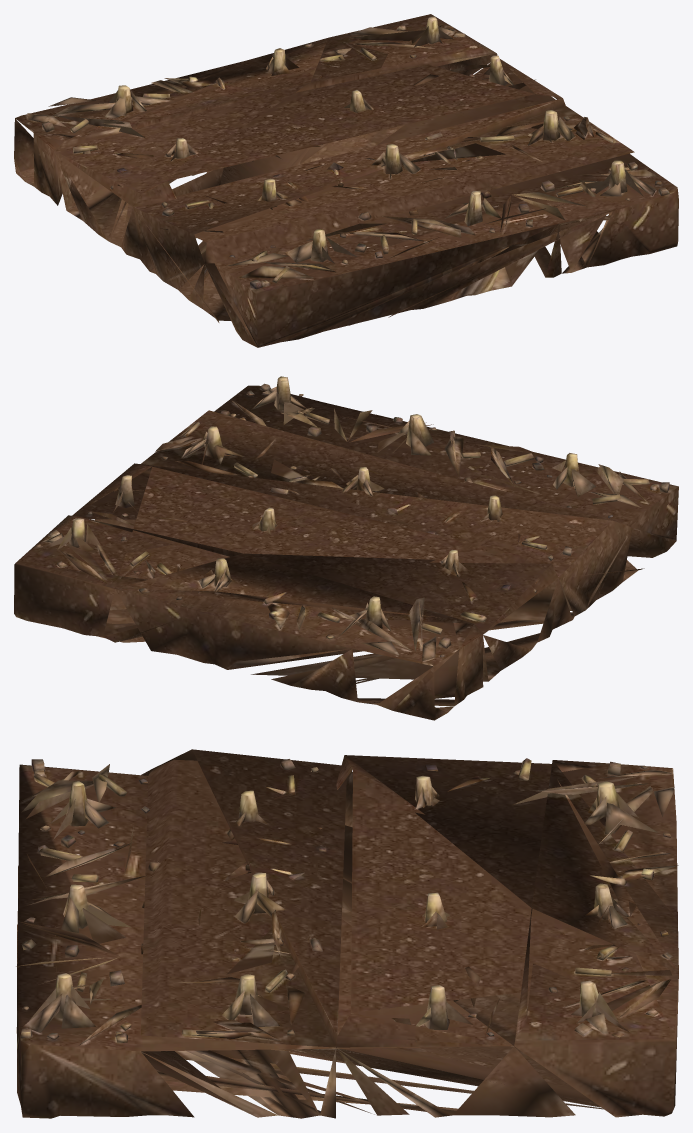
File: cane-ground.glb
3 renders of one model, top to bottom at view 1: azimuth 30°, elevation 25°; view 2: azimuth 150°, elevation 25°; view 3: azimuth 270°, elevation 25°, orthographic. The views are drawn at different scales.
Bounding box in the file's own units: 0.9609 × 0.1783 × 0.9453.
1 material, 1 textured.
